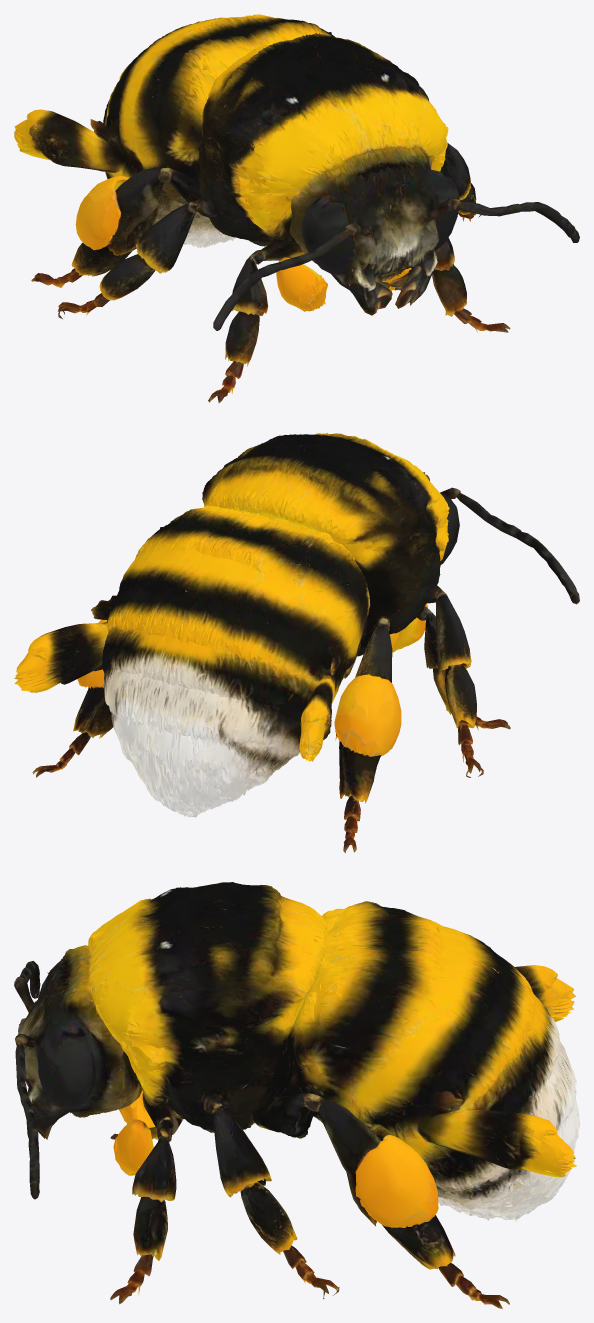
Rendered from bee-lite.glb.
3 views of the same model, one above another, from view 1: azimuth 30°, elevation 25°; view 2: azimuth 150°, elevation 25°; view 3: azimuth 270°, elevation 25° (orthographic). The views are drawn at different scales.
Parts seen in each view (by area): view 1: Mesh_0; view 2: Mesh_0; view 3: Mesh_0.
Boxes of the visible parts, x1,y1,x2,y2 form: Mesh_0: [14, 14, 579, 402]; Mesh_0: [14, 433, 579, 853]; Mesh_0: [14, 882, 579, 1308].
Size of the model in its own units: 1.87 by 1.19 by 1.88.
1 material, 1 textured.
